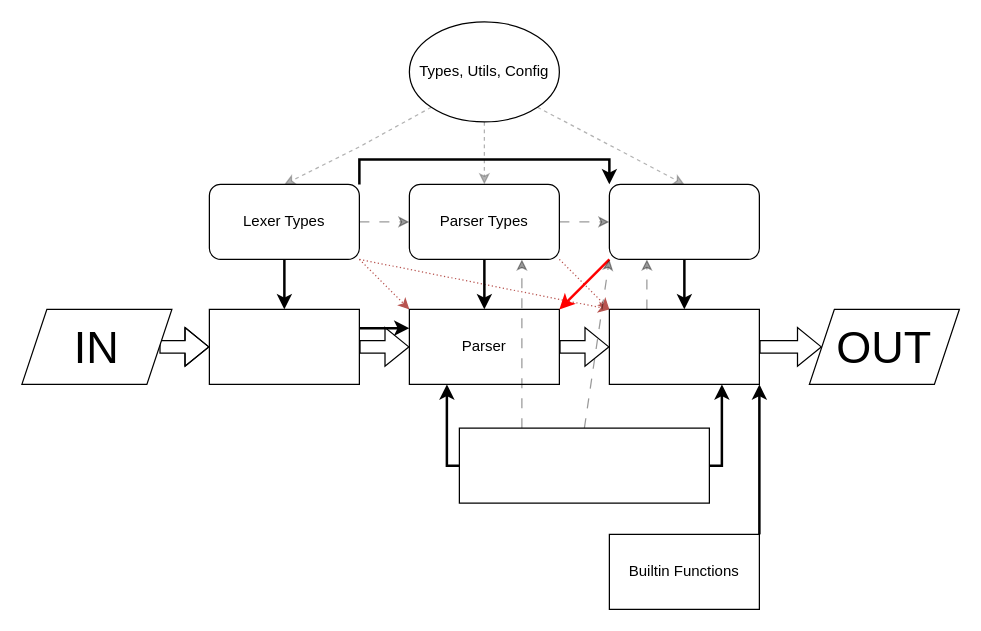
This 981x631 diagram has some shape labels left out. Each missing label, with the centre of its shape:
"Lexer" belongs at [283,346].
"Runtime" belongs at [683,346].
"Runtime Types" belongs at [683,221].
"Statements" belongs at [583,465].
